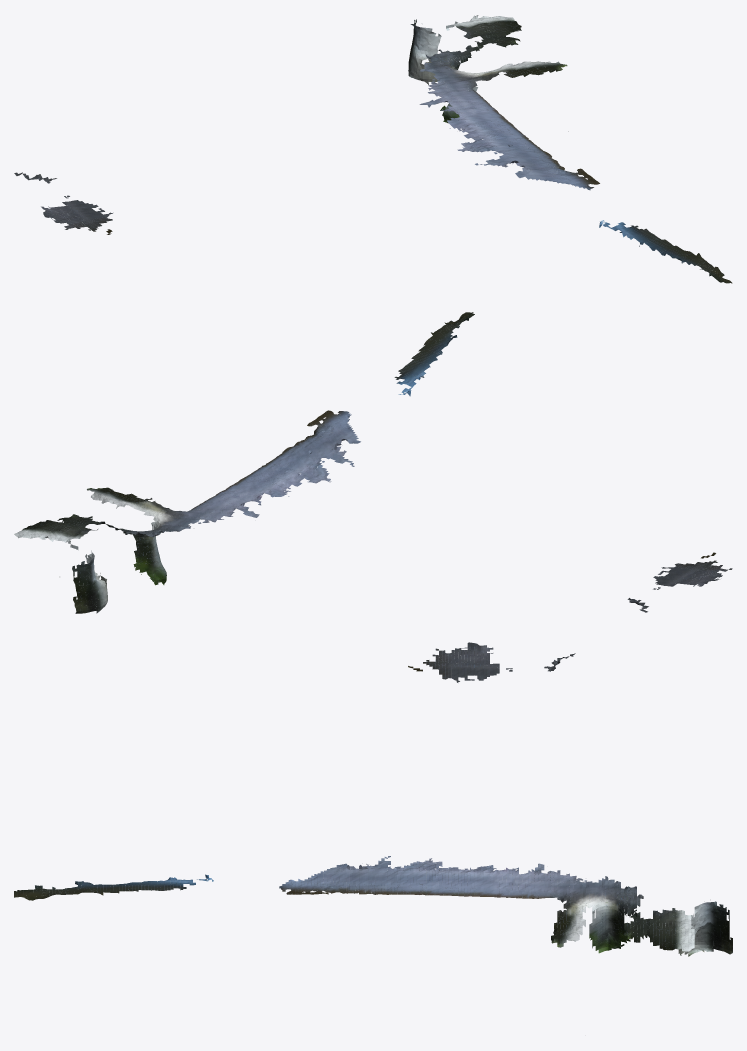
3 views of the same model, one above another, from view 1: azimuth 30°, elevation 25°; view 2: azimuth 150°, elevation 25°; view 3: azimuth 270°, elevation 25° (orthographic). The views are drawn at different scales.
Size of the model in its own units: 4.33 by 0.71 by 4.5.
1 material, 1 textured.
